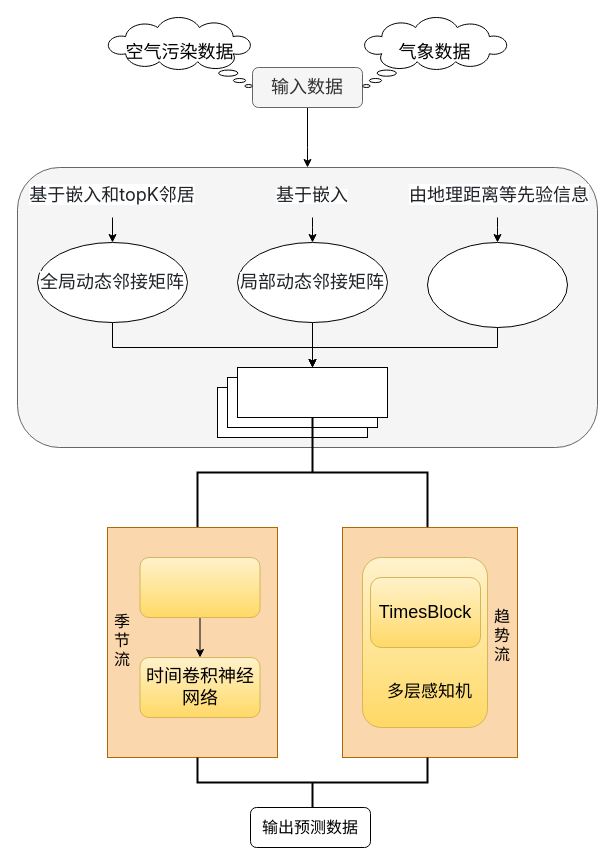
This 615x865 diagram has some shape labels left out. The shapes that lost their labels are listed below. From the top down, each one's centre as x and y in pixels, then its label:
(x=497, y=285): 静态邻接矩阵
(x=312, y=392): 多头图注意力网络
(x=312, y=472): 自适应指数时序分解
(x=199, y=587): 分块操作
(x=312, y=782): 特征融合
